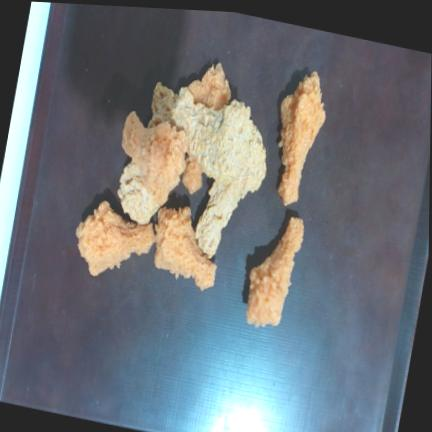chicken: (195, 120, 266, 258), (173, 90, 252, 183), (278, 72, 326, 205), (248, 218, 304, 327), (122, 112, 188, 203), (76, 201, 155, 276), (155, 206, 217, 290), (188, 63, 231, 110), (183, 156, 202, 193)
